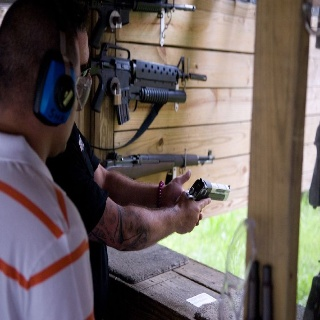pistol: (189, 177, 232, 203)
rifle: (84, 40, 209, 125), (96, 149, 216, 181)
